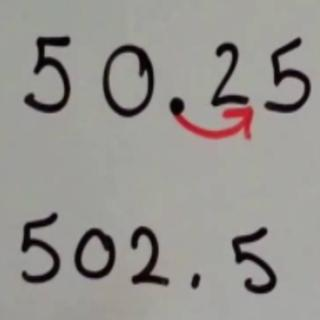.: (166, 95, 187, 115), (189, 270, 203, 292)
0: (101, 42, 156, 118), (72, 227, 117, 281)
2: (209, 41, 252, 106), (128, 225, 171, 288)
5: (23, 34, 76, 115), (262, 36, 313, 114), (230, 225, 280, 296), (20, 212, 63, 285)
